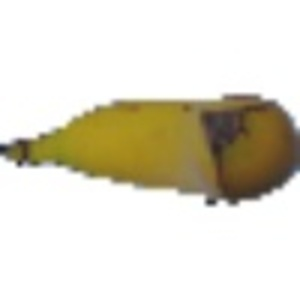banana: (5, 93, 294, 193)
